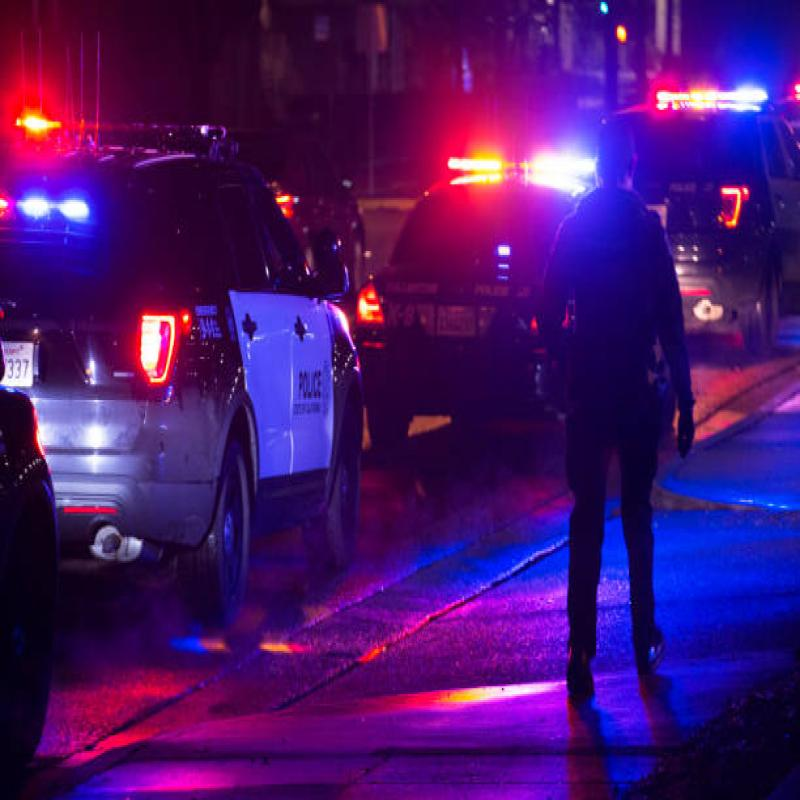AmbulanceSiren: (11, 93, 230, 177), (432, 116, 586, 199), (642, 57, 794, 122)
